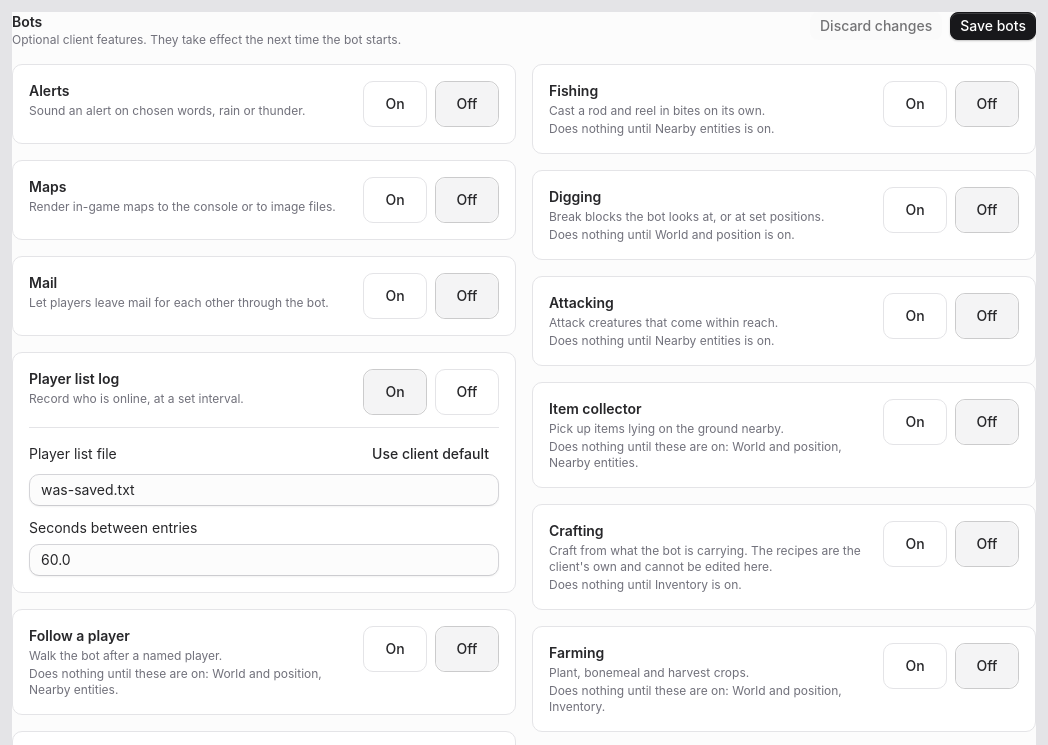
Test: ★ what a bots save that lost the race tells the operator › ★ says someone else saved first, and shows the bots that operator saved
Replace the text in the field named "Player list file" with "mine.txt" at (264,490), box [30, 475, 498, 505]
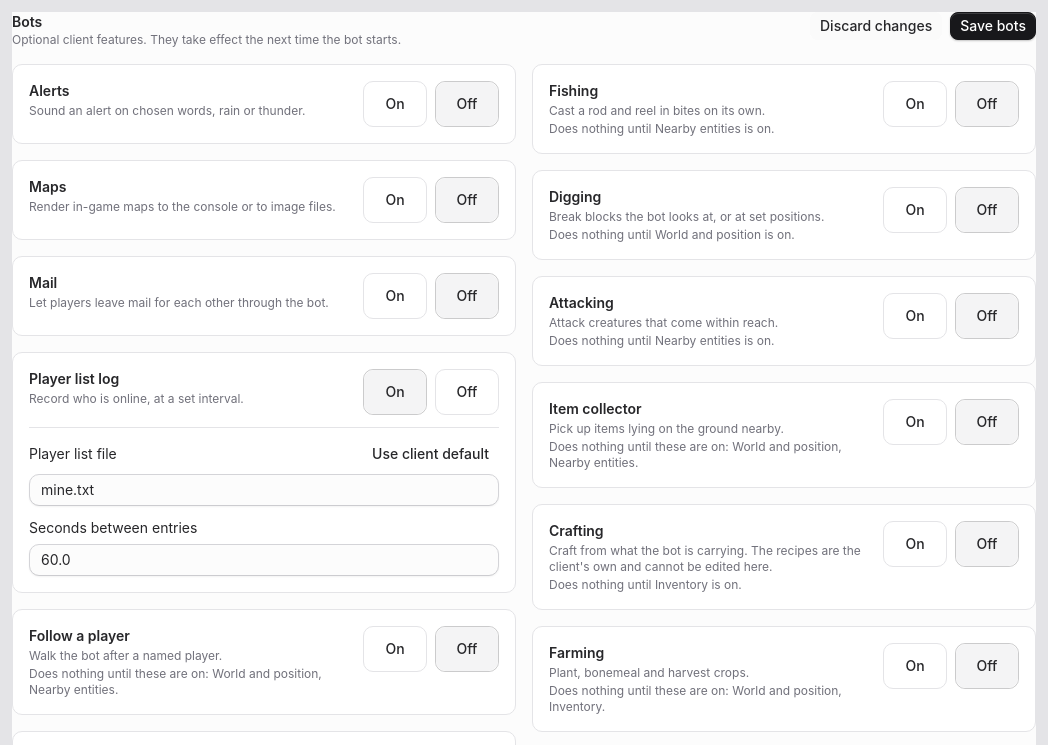
Click the button "Save bots".
click(993, 26)  # box [950, 12, 1036, 40]
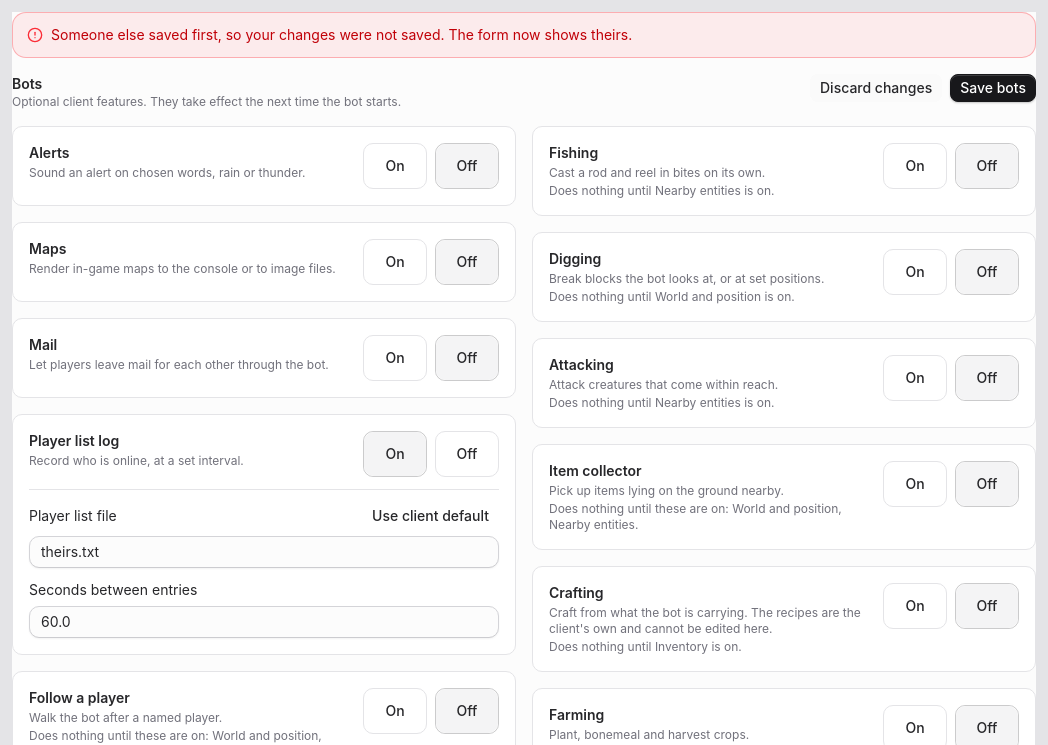
Expected: the field named "Player list file" holds "theirs.txt", [30, 537, 498, 567]
